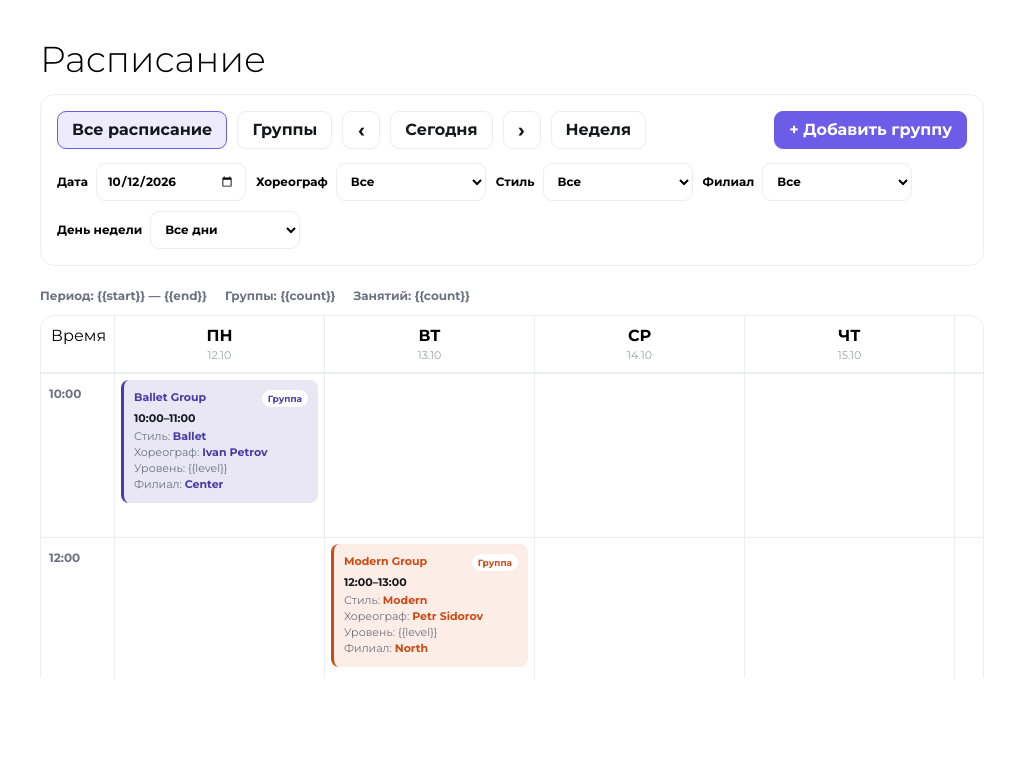
Test: SchedulePage › filters lessons by day of week
The width and height of the screenshot is (1024, 768).
Expected: the text "Ballet Group" is shown, [134,390,206,404]
Expected: the text "Modern Group" is shown, [344,554,427,568]
Select "Вторник" in the dropdown labelled "День недели": (225, 230) [150,211,300,249]
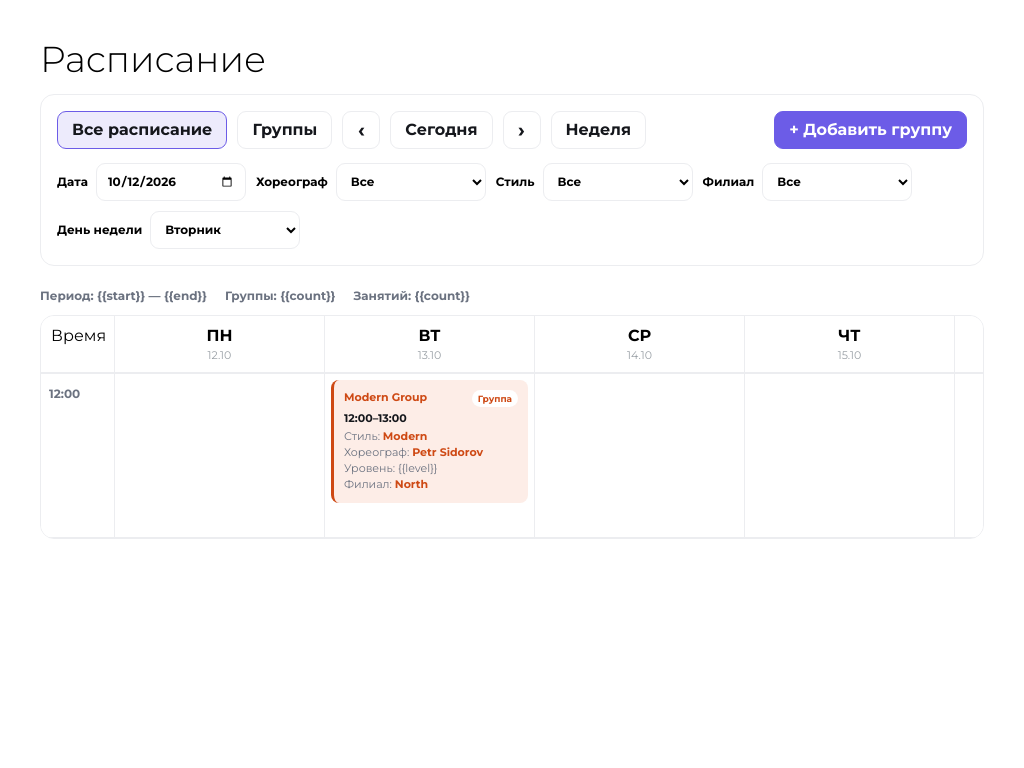
Expected: the text "Modern Group" is shown, [344,390,427,404]
Expected: the text "Ballet Group" is gone
